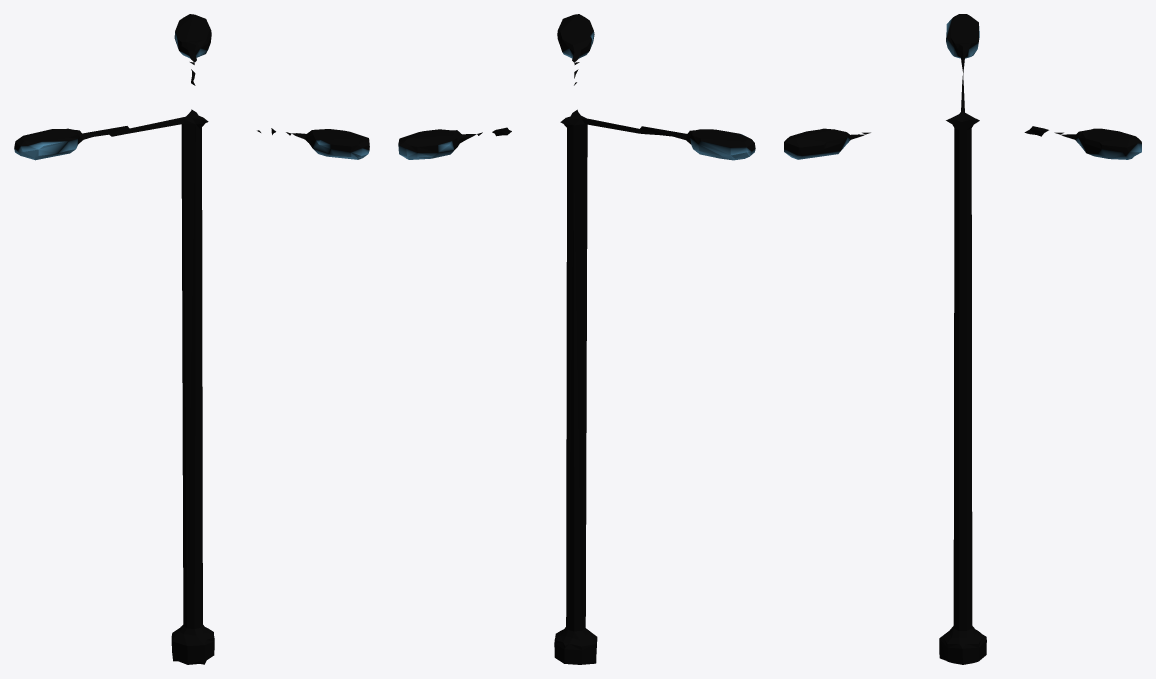
File: Street Lights(1).glb
3 views of the same model, side by side, from view 1: azimuth 30°, elevation 25°; view 2: azimuth 150°, elevation 25°; view 3: azimuth 270°, elevation 25° (orthographic).
Parts seen in each view (by area): view 1: Root; view 2: Root; view 3: Root.
Part boxes in pixels (<box>): Root: <box>14,14,369,664</box>; Root: <box>398,14,755,664</box>; Root: <box>784,14,1141,664</box>.
Bounding box in the file's own units: 1.08 × 2.12 × 1.23.
